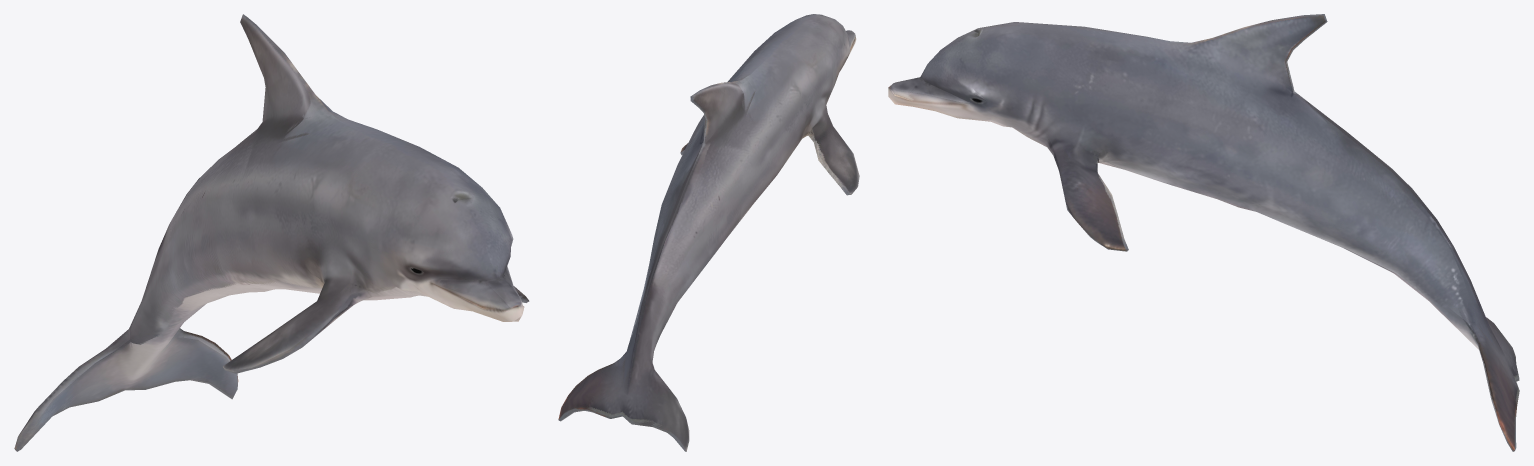
Rendered from dolphin.glb.
3 views of the same model, side by side, from view 1: azimuth 30°, elevation 25°; view 2: azimuth 150°, elevation 25°; view 3: azimuth 270°, elevation 25° (orthographic). The views are drawn at different scales.
Parts seen in each view (by area): view 1: Mesh_0_modddif_material_0_0; view 2: Mesh_0_modddif_material_0_0; view 3: Mesh_0_modddif_material_0_0.
Part boxes in pixels (bbox=[...]): Mesh_0_modddif_material_0_0: bbox=[14, 14, 529, 451]; Mesh_0_modddif_material_0_0: bbox=[558, 14, 859, 451]; Mesh_0_modddif_material_0_0: bbox=[888, 14, 1519, 451].
Size of the model in its own units: 0.4304 by 0.6921 by 0.9994.
Materials: 1 (1 with a texture image).
